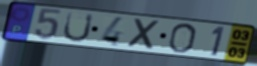1: (209, 25, 227, 58)
4: (98, 16, 126, 48)
5: (33, 7, 64, 42)
O: (166, 22, 199, 54)
U: (61, 11, 96, 44)
X: (126, 17, 163, 52)
